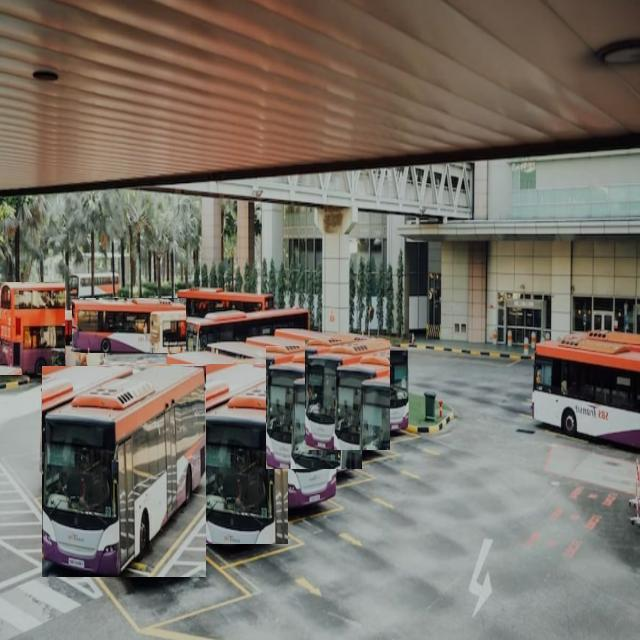bus: (42, 366, 205, 577), (115, 365, 288, 544), (168, 351, 336, 509), (531, 331, 640, 448), (266, 346, 361, 469), (305, 340, 390, 450), (330, 333, 409, 430), (72, 298, 185, 353), (0, 283, 65, 375), (185, 307, 310, 351)
